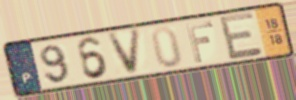0: (149, 25, 184, 70)
6: (77, 35, 110, 81)
9: (38, 42, 71, 85)
E: (216, 10, 266, 63)
F: (184, 19, 216, 65)
V: (106, 26, 144, 77)
